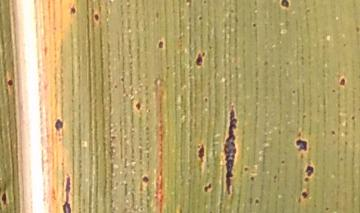tarspot: (222, 101, 239, 197), (59, 172, 73, 213), (195, 142, 209, 164), (295, 134, 309, 155), (193, 50, 205, 70), (52, 116, 64, 134), (1, 187, 10, 207), (133, 99, 145, 112), (140, 173, 151, 187), (202, 180, 213, 194), (337, 74, 347, 89), (68, 4, 78, 19), (90, 11, 102, 22), (4, 76, 15, 88), (157, 38, 165, 54), (277, 1, 293, 9), (300, 188, 309, 202)
